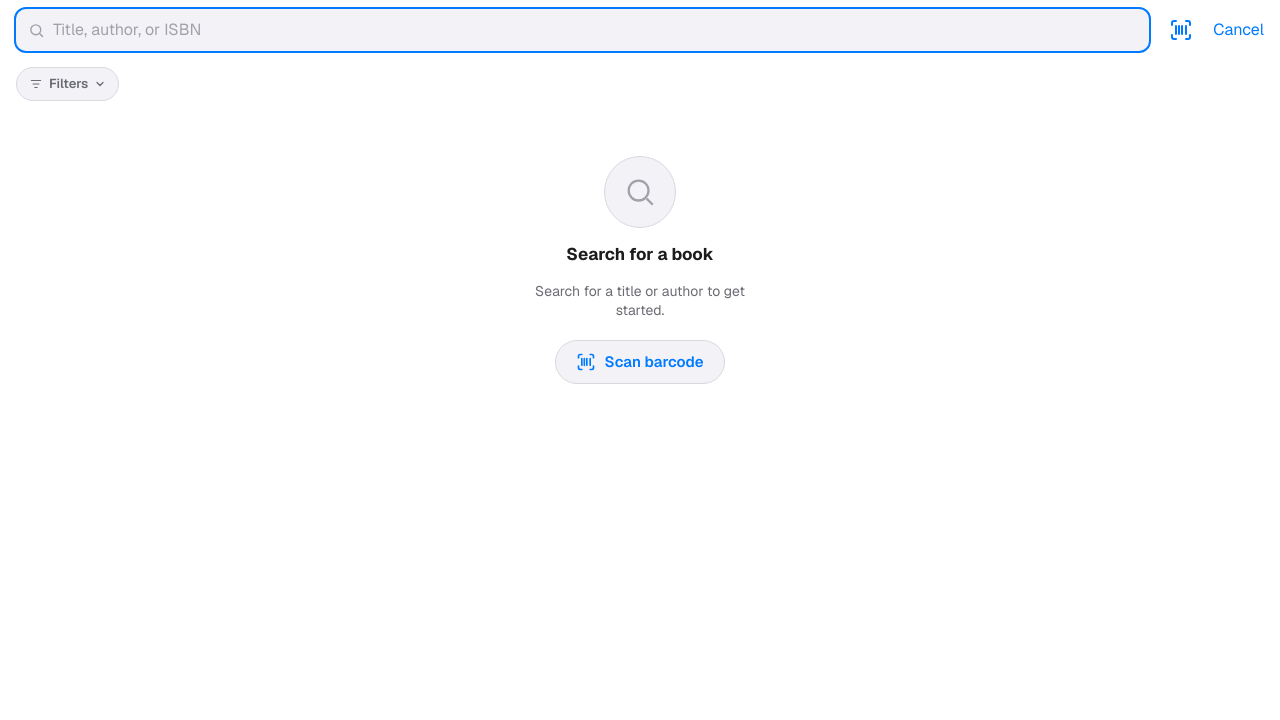
Test: BookSearch › renders only the matching group header for a single-source response
In the field named "Search books": (595, 30) [53,18,1137,42], type "Dune"
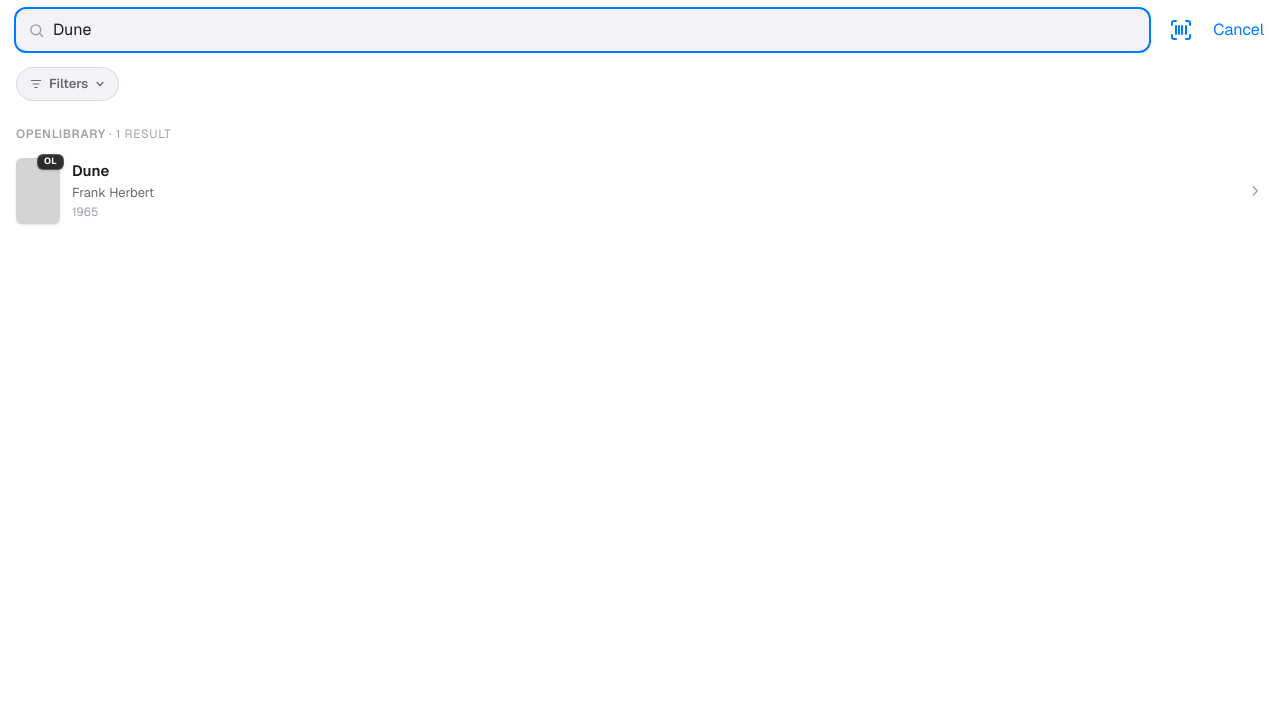
expect the text "OpenLibrary" is shown: met, box [16,126,106,142]
